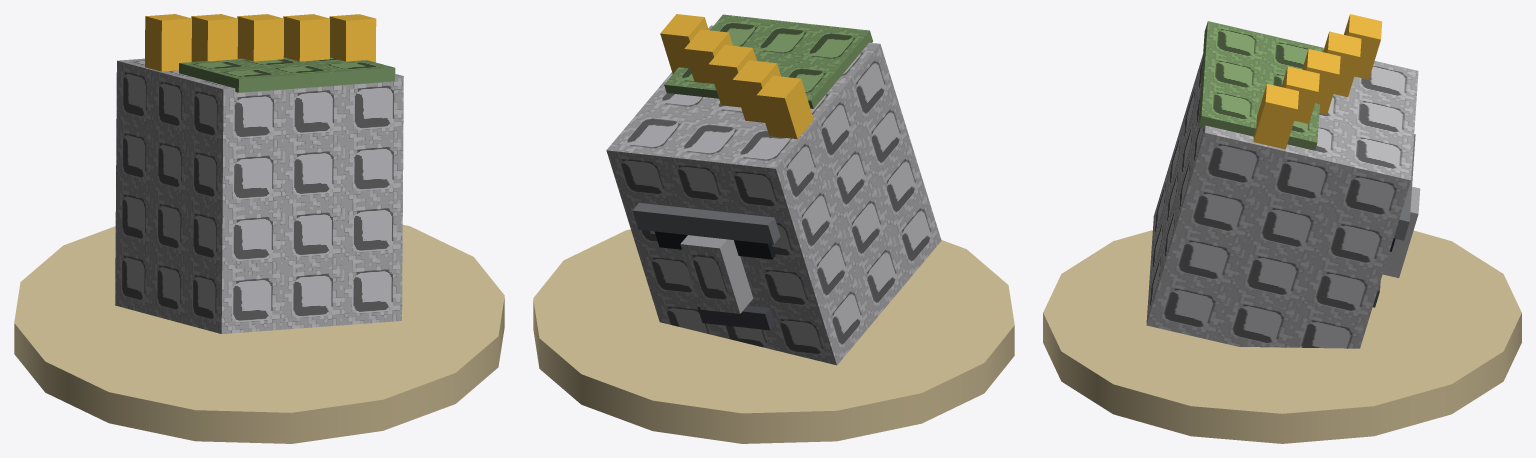
The model's file is StatueHead.fbx.
3 renders of one model, left to right at view 1: azimuth 30°, elevation 25°; view 2: azimuth 150°, elevation 25°; view 3: azimuth 270°, elevation 25°, orthographic. The views are drawn at different scales.
Visible parts, largest first — view 1: StatueHead; view 2: StatueHead; view 3: StatueHead.
Boxes of the visible parts, box(x1,y1,x2,y2) form: StatueHead: box(14, 14, 504, 443); StatueHead: box(533, 14, 1014, 443); StatueHead: box(1043, 14, 1521, 443).
Bounding box in the file's own units: 720 × 497 × 720.
Materials: 1 (1 with a texture image).
